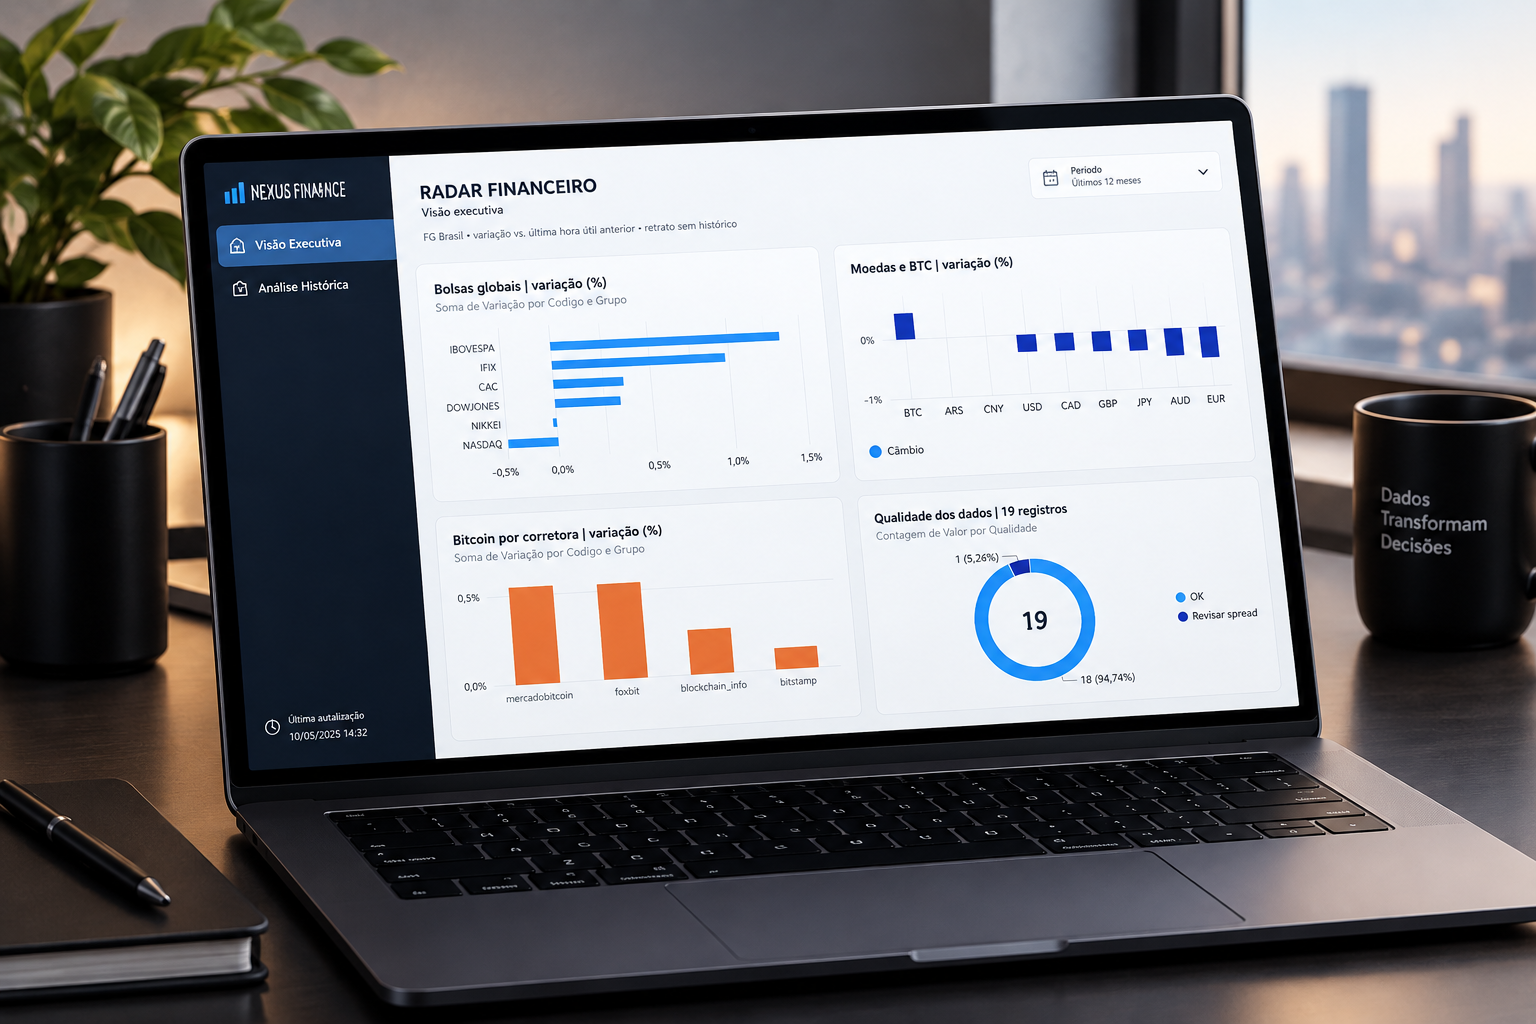

What the dashboard file says about the page in this screenshot:
{"tool":"powerbi","page":{"name":"Visão executiva","canvas":[1280,720],"ordinal":2},"visuals":[{"type":"clusteredBarChart","title":"Bolsas globais | variação (%)","fields":{"Category":["Mercado HG Finance.Codigo"],"Series":["Mercado HG Finance.Grupo"],"Y":["Sum(Mercado HG Finance.Variacao)"]},"box":[20,110,590,270],"z":0},{"type":"clusteredColumnChart","title":"Moedas e BTC | variação (%)","fields":{"Category":["Mercado HG Finance.Codigo"],"Series":["Mercado HG Finance.Grupo"],"Y":["Sum(Mercado HG Finance.Variacao)"]},"box":[650,110,590,270],"z":1},{"type":"clusteredColumnChart","title":"Bitcoin por corretora | variação (%)","fields":{"Category":["Mercado HG Finance.Codigo"],"Series":["Mercado HG Finance.Grupo"],"Y":["Sum(Mercado HG Finance.Variacao)"]},"box":[20,400,590,270],"z":2},{"type":"donutChart","title":"Qualidade dos dados | 19 registros","fields":{"Category":["Mercado HG Finance.Qualidade"],"Y":["CountNonNull(Mercado HG Finance.Valor)"]},"box":[650,400,590,270],"z":3},{"type":"textbox","box":[20,15,1220,80],"z":4}]}

Visuals, with their boxes on the page's 1280x720 design canvas (x1, y1, x2, y2). These are canvas units, not pixel positions in the 1536x1024 screenshot, which may show the page scaled, cropped or inside an application window:
"Bolsas globais | variação (%)" clusteredBarChart: locate(20, 110, 610, 380)
"Moedas e BTC | variação (%)" clusteredColumnChart: locate(650, 110, 1240, 380)
"Bitcoin por corretora | variação (%)" clusteredColumnChart: locate(20, 400, 610, 670)
"Qualidade dos dados | 19 registros" donutChart: locate(650, 400, 1240, 670)
textbox: locate(20, 15, 1240, 95)
